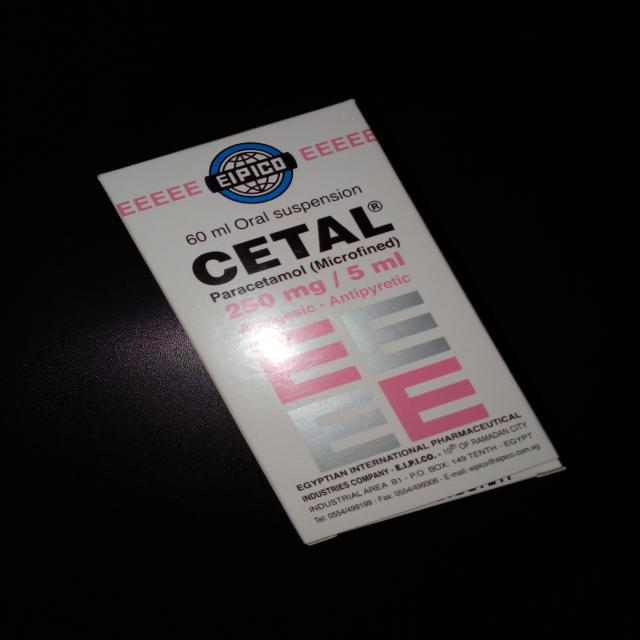Medicine: (98, 95, 571, 546)
